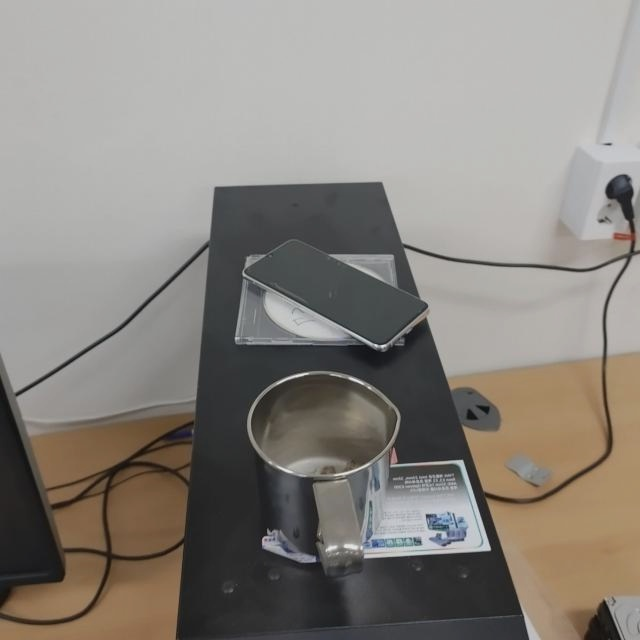cup: (246, 368, 404, 580)
phone: (240, 237, 433, 355)
